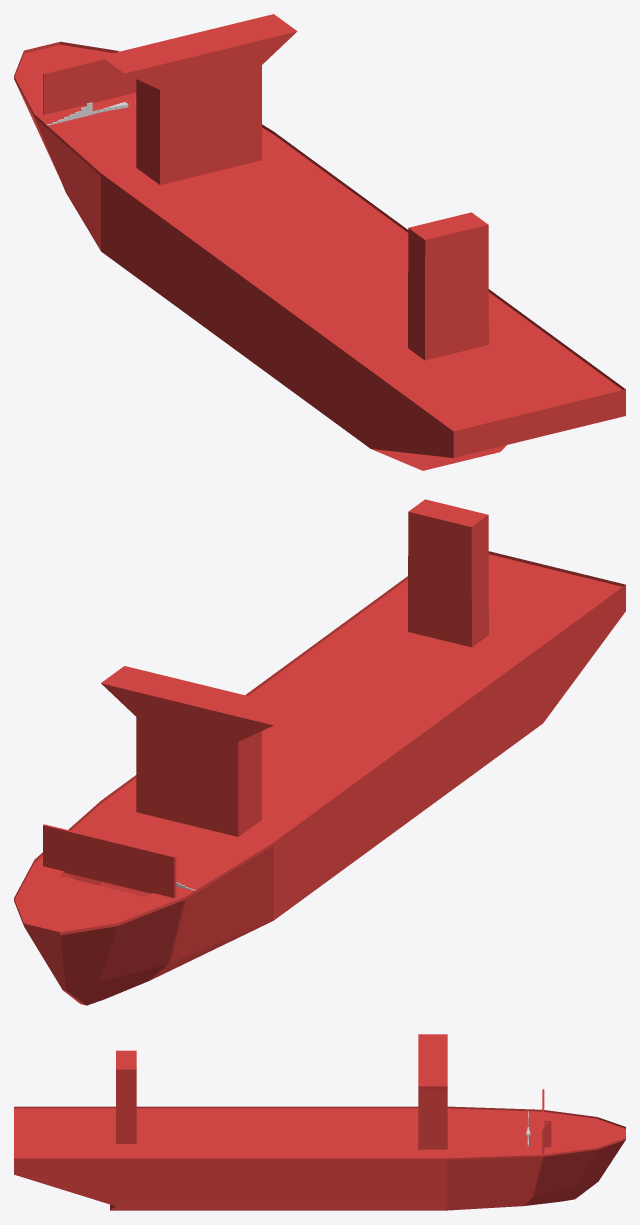
Rendered from CargoShit.fbx.
The picture shows the model from 3 angles, top to bottom: view 1: azimuth 30°, elevation 25°; view 2: azimuth 150°, elevation 25°; view 3: azimuth 270°, elevation 25°; orthographic projection. The views are drawn at different scales.
Visible parts, largest first — view 1: Cube.001; view 2: Cube.001; view 3: Cube.001.
Part boxes in pixels (left/top/right/bottom): Cube.001: left=14, top=14, right=625, bottom=470; Cube.001: left=14, top=499, right=625, bottom=1005; Cube.001: left=14, top=1034, right=625, bottom=1210.
Bounding box in the file's own units: 6027 × 7500 × 30000.
